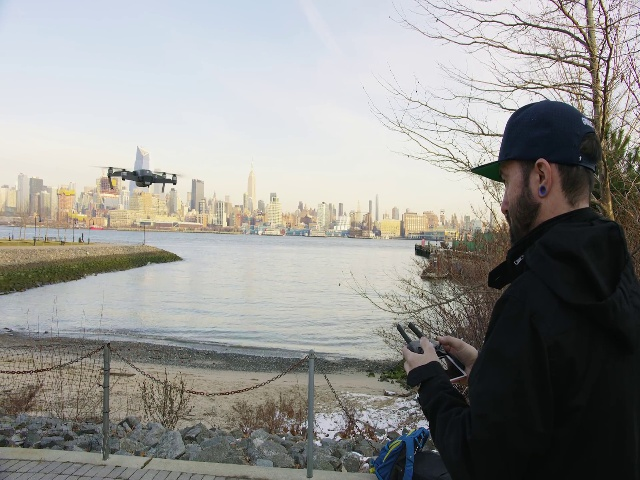drone: (92, 161, 188, 196)
